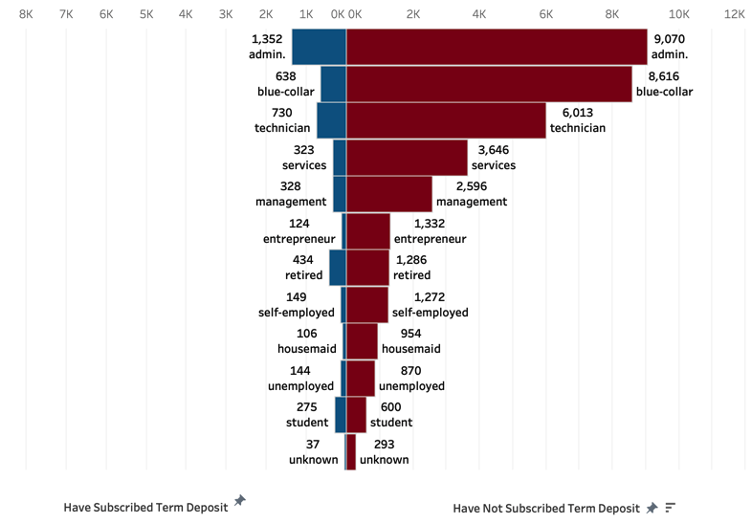

This screenshot's page, from the dashboard's own definition file:
{"tool":"tableau","page":{"name":"Dashboard 2","canvas":[1000,800],"ordinal":1},"visuals":[{"type":"worksheet","title":"Sheet 2 (2)","mark":"Bar","rows":["education"],"cols":["Calculation_4970566655649902594","Calculation_4970566655646928897","Calculation_4970566655650160643","Calculation_4970566655646928897"],"box":[66,6,801,578]}]}

Visuals, with their boxes on the page's 1000x800 design canvas (x1, y1, x2, y2). These are canvas units, not pixel positions in the 755x524 screenshot, which may show the page scaled, cropped or inside an application window:
"Sheet 2 (2)" worksheet (Bar marks): <box>66,6,867,584</box>
